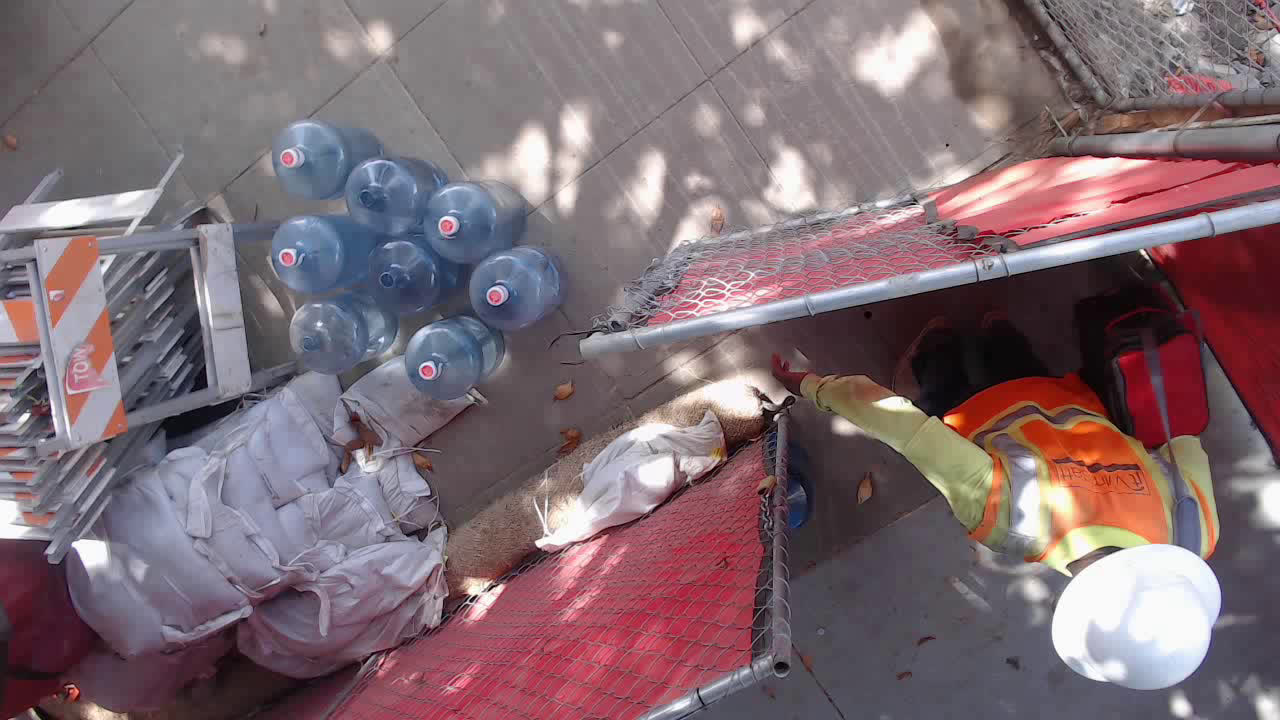hardhat: (1049, 540, 1223, 693)
safetyvest: (930, 372, 1214, 554)
